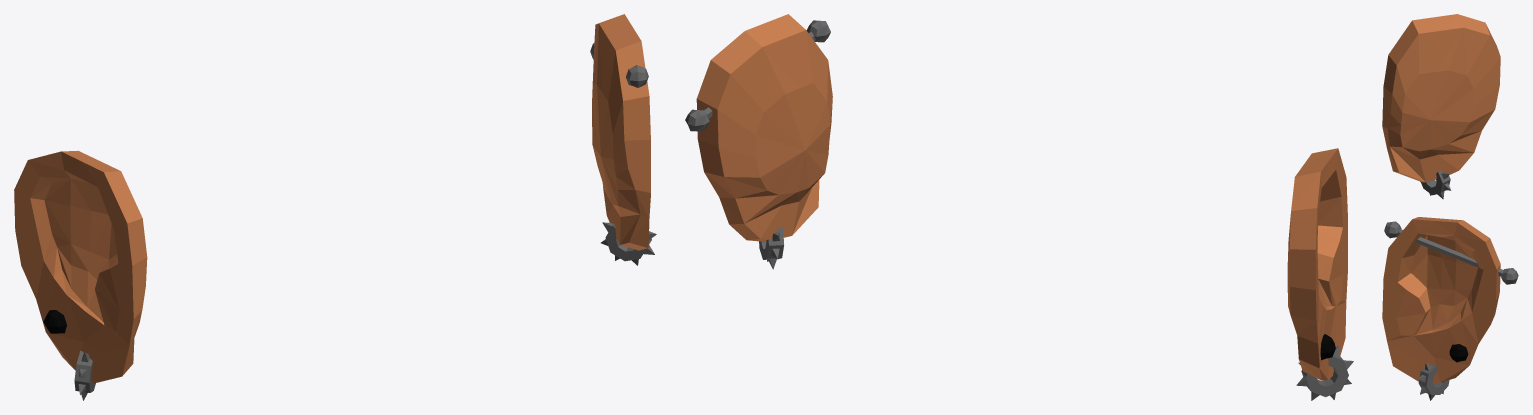
Rendered from hat_HumanEars.fbx.
3 renders of one model, left to right at view 1: azimuth 30°, elevation 25°; view 2: azimuth 150°, elevation 25°; view 3: azimuth 270°, elevation 25°, orthographic. The views are drawn at different scales.
Parts seen in each view (by area): view 1: human_ears; view 2: human_ears; view 3: human_ears.
Boxes of the visible parts, left/top/right/bottom form: human_ears: left=14, top=14, right=656, bottom=400; human_ears: left=685, top=14, right=1353, bottom=400; human_ears: left=1382, top=14, right=1518, bottom=400.
Size of the model in its own units: 44.63 by 16.72 by 11.46.
